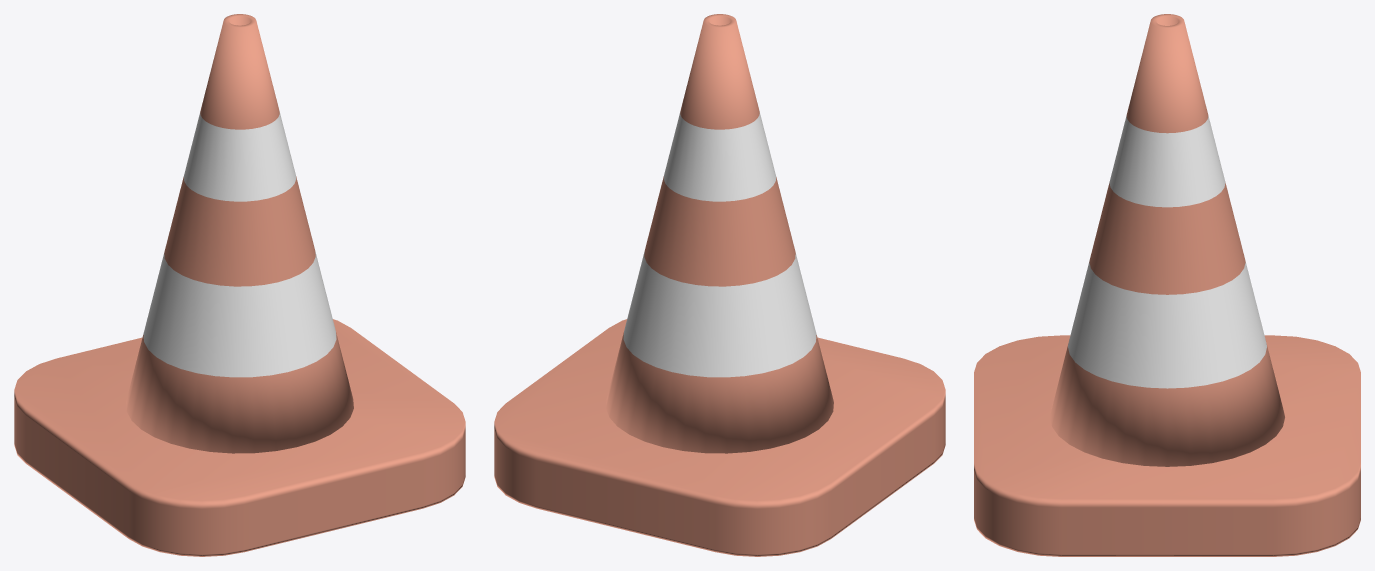
File: traffic_cone.glb
The picture shows the model from 3 angles, left to right: view 1: azimuth 30°, elevation 25°; view 2: azimuth 150°, elevation 25°; view 3: azimuth 270°, elevation 25°; orthographic projection. The views are drawn at different scales.
Parts seen in each view (by area): view 1: Cylinder, Cube; view 2: Cylinder, Cube; view 3: Cylinder, Cube.
Boxes of the visible parts, bbox=[...] form: Cylinder: bbox=[126, 14, 353, 453]; Cube: bbox=[14, 319, 465, 556]; Cylinder: bbox=[606, 14, 833, 453]; Cube: bbox=[494, 319, 945, 556]; Cylinder: bbox=[1050, 14, 1284, 466]; Cube: bbox=[974, 335, 1360, 556].
Size of the model in its own units: 1.97 by 2.55 by 1.97.
